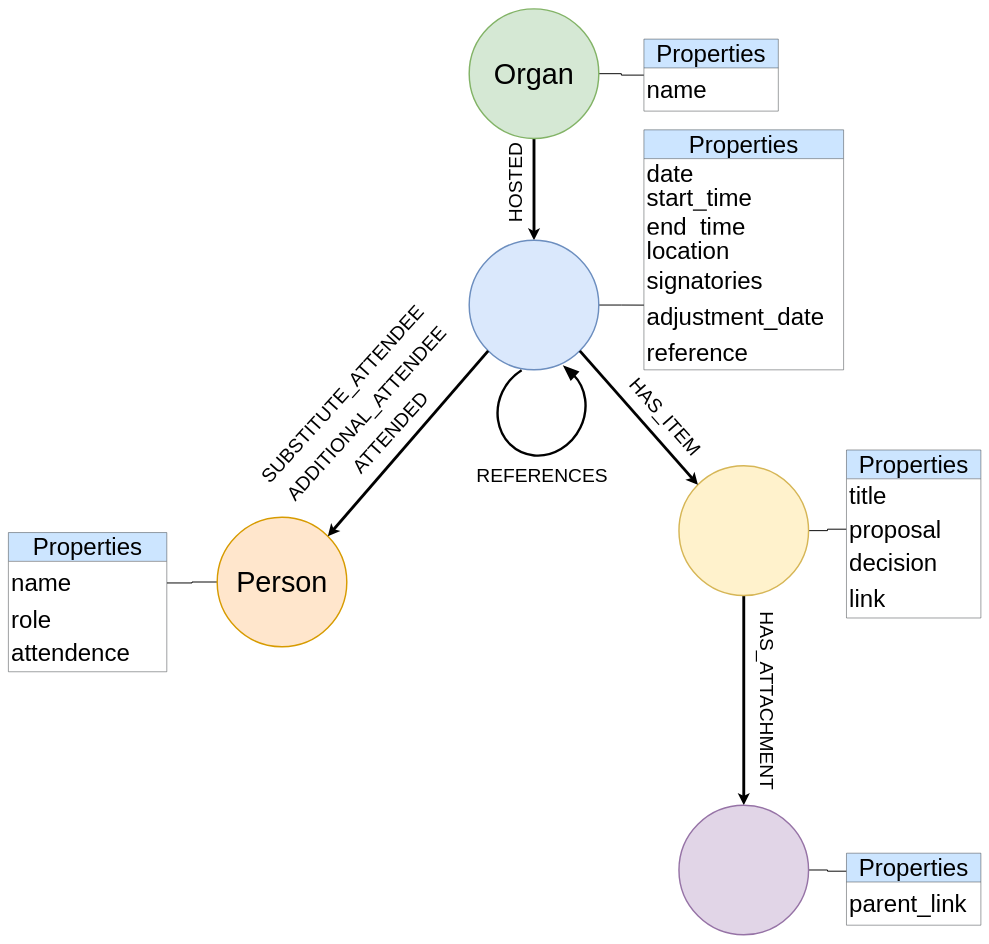
The diagram is 989 pixels wide and 944 high, and some of its shapes have lost their labels. The shapes that lost their labels are listed below. From the top down, each one's box as (x1, y1, x2, y2) in pixels, then its label:
(468, 239, 599, 370): Meeting
(678, 465, 809, 596): Item
(678, 804, 809, 935): Attachment
